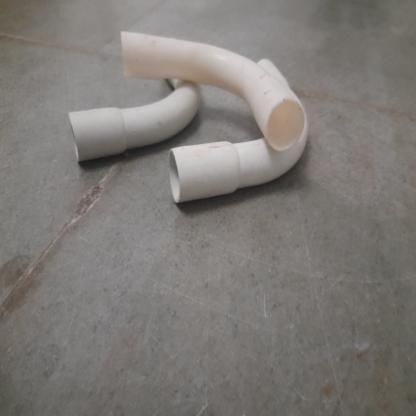PVC: (68, 31, 310, 202)
